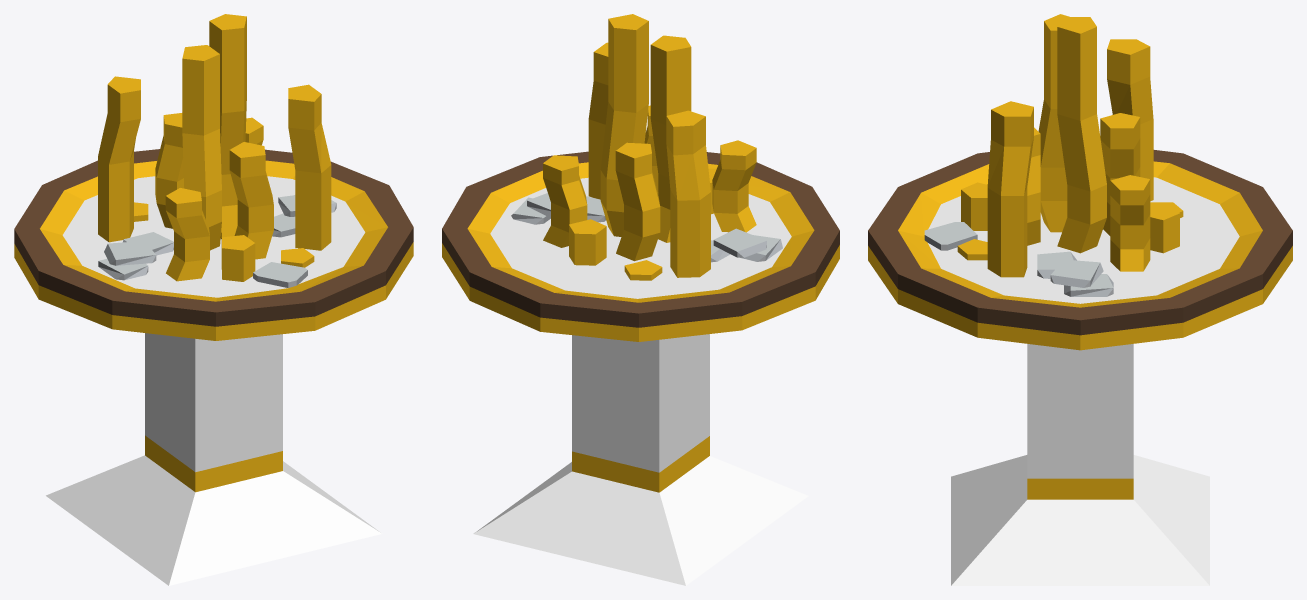
File: mounted-coins.gltf
The picture shows the model from 3 angles, left to right: view 1: azimuth 30°, elevation 25°; view 2: azimuth 150°, elevation 25°; view 3: azimuth 270°, elevation 25°; orthographic projection. The views are drawn at different scales.
Size of the model in its own units: 128 by 171 by 128.
1 material, 1 textured.
